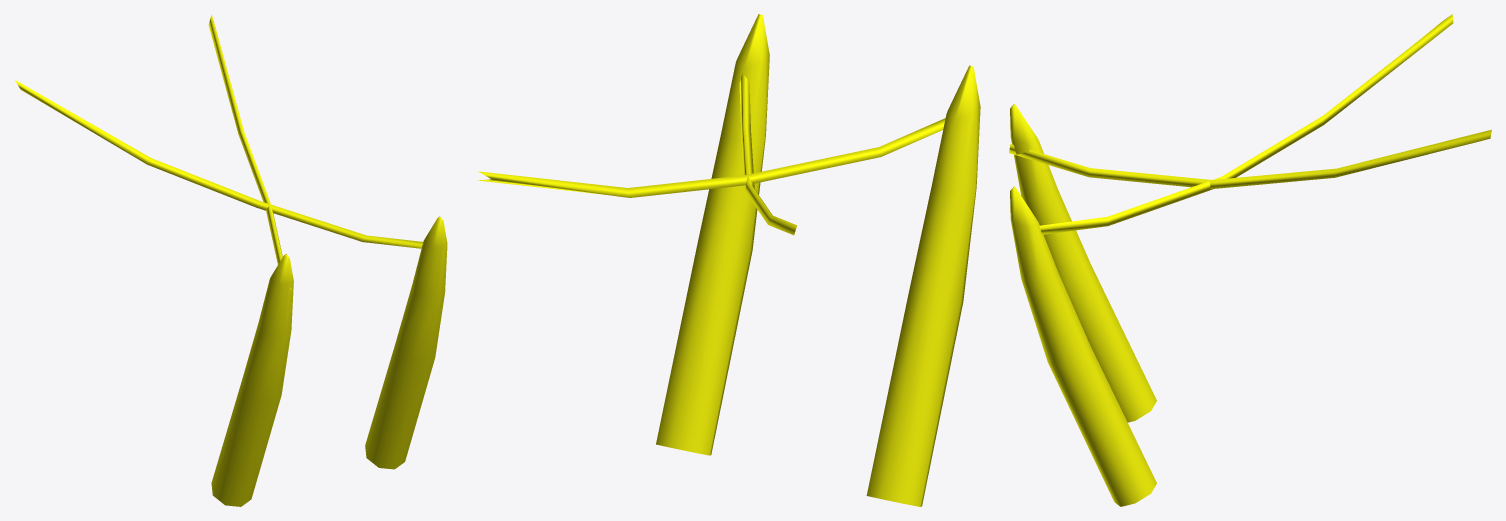
The model's file is camp_redthief_gate_00a.glb.
3 views of the same model, side by side, from view 1: azimuth 30°, elevation 25°; view 2: azimuth 150°, elevation 25°; view 3: azimuth 270°, elevation 25° (orthographic). The views are drawn at different scales.
Parts seen in each view (by area): view 1: camp_redthief_gate_00a; view 2: camp_redthief_gate_00a; view 3: camp_redthief_gate_00a.
Part boxes in pixels (bbox=[...]): camp_redthief_gate_00a: bbox=[15, 14, 447, 506]; camp_redthief_gate_00a: bbox=[477, 14, 980, 506]; camp_redthief_gate_00a: bbox=[1009, 14, 1491, 506].
Size of the model in its own units: 4.59 by 5.95 by 7.1.
1 material, 1 textured.
